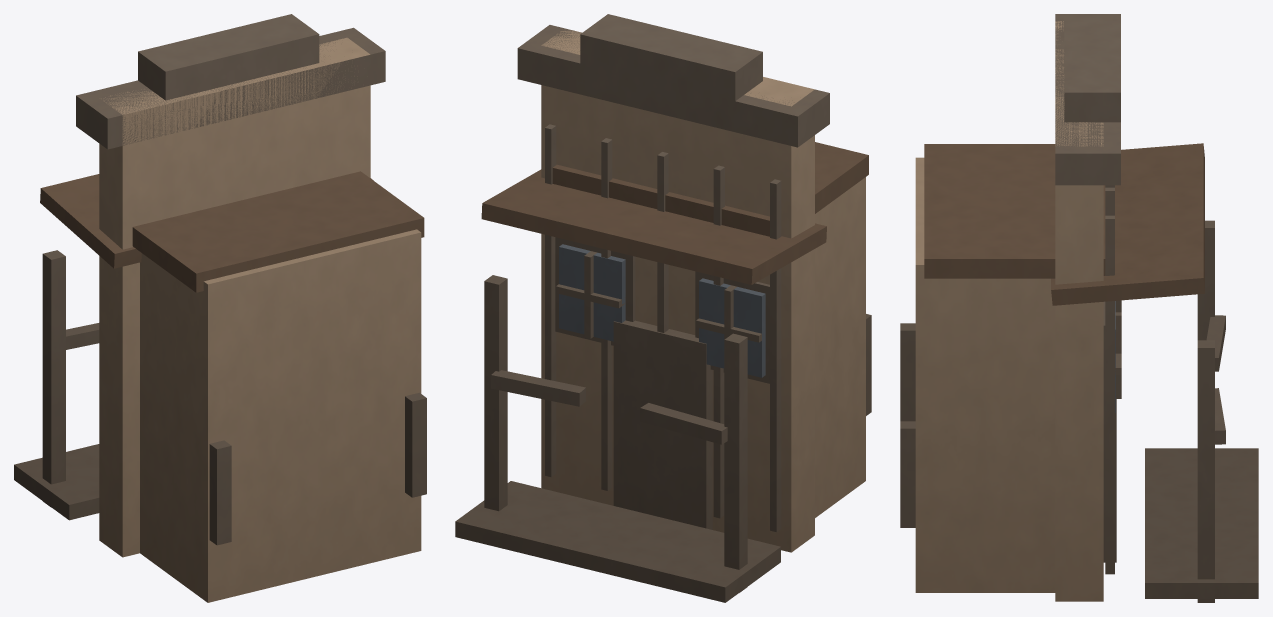
Rendered from town_facade_dark.glb.
3 views of the same model, side by side, from view 1: azimuth 30°, elevation 25°; view 2: azimuth 150°, elevation 25°; view 3: azimuth 270°, elevation 25° (orthographic). The views are drawn at different scales.
Parts seen in each view (by area): view 1: town_facade_dark; view 2: town_facade_dark; view 3: town_facade_dark.
Part boxes in pixels (<box>): town_facade_dark: <box>14,14,426,602</box>; town_facade_dark: <box>455,14,871,602</box>; town_facade_dark: <box>900,14,1258,602</box>.
Bounding box in the file's own units: 1.51 × 2.45 × 1.64.
Materials: 1 (1 with a texture image).
